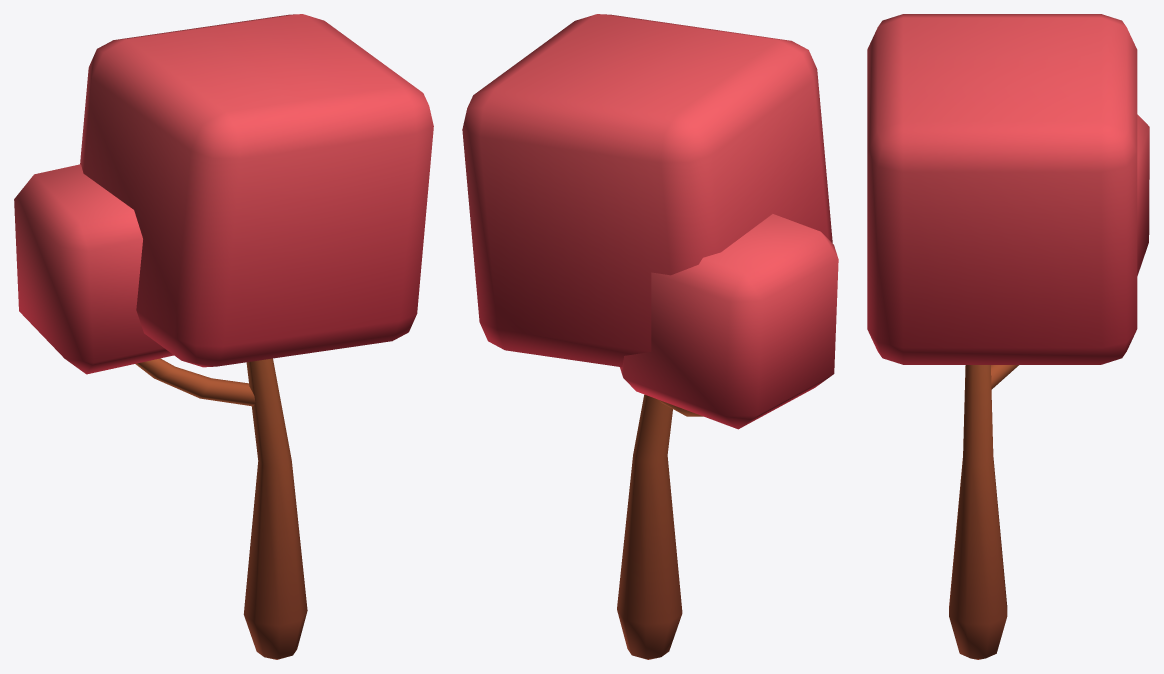
The model's file is Tree_2_A_Color7.fbx.
3 views of the same model, side by side, from view 1: azimuth 30°, elevation 25°; view 2: azimuth 150°, elevation 25°; view 3: azimuth 270°, elevation 25° (orthographic). The views are drawn at different scales.
Visible parts, largest first — view 1: Tree_2_A_Color7; view 2: Tree_2_A_Color7; view 3: Tree_2_A_Color7.
Part boxes in pixels (x1,y1,x2,y2): Tree_2_A_Color7: [14, 14, 433, 659]; Tree_2_A_Color7: [462, 14, 838, 659]; Tree_2_A_Color7: [867, 14, 1149, 659].
Bounding box in the file's own units: 2.6 × 4.67 × 2.
